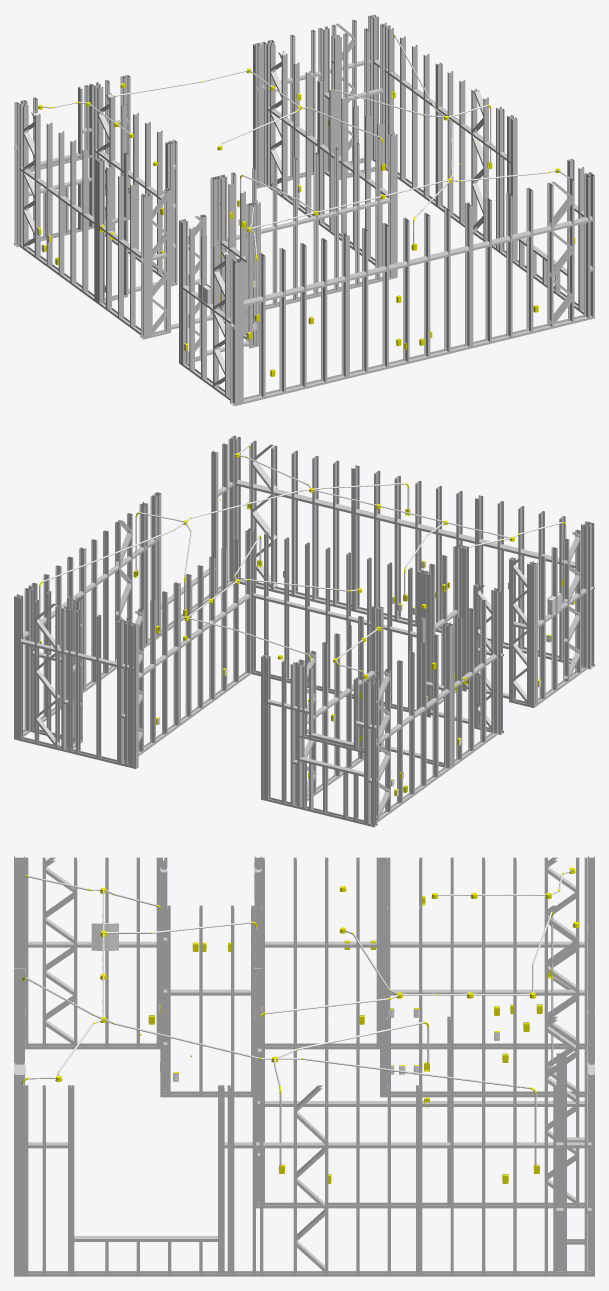
Rendered from suite-sara-cinema.glb.
3 renders of one model, top to bottom at view 1: azimuth 30°, elevation 25°; view 2: azimuth 150°, elevation 25°; view 3: azimuth 270°, elevation 25°, orthographic. The views are drawn at different scales.
Visible parts, largest first — view 1: DirectShape Modelos genéricos <299561 Componente#1726<, DirectShape Modelos genéricos <299503 Componente#1685<, DirectShape Modelos genéricos <299550 Componente#1713<, DirectShape Modelos genéricos <299506 Componente#1701<, DirectShape Modelos genéricos <299509 Componente#1702<, DirectShape Modelos genéricos <299544 Componente#1712<, DirectShape Modelos genéricos <299562 Componente#1723<, DirectShape Modelos genéricos <299566 Componente#1722<, DirectShape Modelos genéricos <299511 Componente#1696<, DirectShape Modelos genéricos <299538 Componente#1708<, DirectShape Modelos genéricos <300843 Componente#2227<, DirectShape Modelos genéricos <300849 Componente#2231< (+84 smaller); view 2: DirectShape Modelos genéricos <301054 Componente#2383<, DirectShape Modelos genéricos <299503 Componente#1685<, DirectShape Modelos genéricos <300953 Componente#2367<, DirectShape Modelos genéricos <300956 Componente#2370<, DirectShape Modelos genéricos <300985 Componente#2366<, DirectShape Modelos genéricos <300849 Componente#2231<, DirectShape Modelos genéricos <301086 Componente#2485<, DirectShape Modelos genéricos <299561 Componente#1726<, DirectShape Modelos genéricos <299566 Componente#1722<, DirectShape Modelos genéricos <300962 Componente#2373<, DirectShape Modelos genéricos <301085 Componente#2476<, DirectShape Modelos genéricos <299548 Componente#1706< (+87 smaller); view 3: DirectShape Modelos genéricos <299557 Componente#1718<, DirectShape Modelos genéricos <300441 Componente#1843<, DirectShape Modelos genéricos <300894 Componente#2310<, DirectShape Modelos genéricos <300393 Componente#1773<, DirectShape Modelos genéricos <300829 Componente#2215<, DirectShape Modelos genéricos <300390 Componente#1792<, DirectShape Modelos genéricos <301120 Componente#2471<, DirectShape Modelos genéricos <300875 Componente#2199<, DirectShape Modelos genéricos <300407 Componente#1769<, DirectShape Modelos genéricos <300841 Componente#2200<, DirectShape Modelos genéricos <300375 Componente#1739<, DirectShape Modelos genéricos <300386 Componente#1788< (+58 smaller).
Part boxes in pixels (x1,y1,x2,y2): DirectShape Modelos genéricos <299561 Componente#1726<: [526, 187, 533, 333]; DirectShape Modelos genéricos <299503 Componente#1685<: [230, 260, 236, 405]; DirectShape Modelos genéricos <299550 Componente#1713<: [444, 207, 450, 353]; DirectShape Modelos genéricos <299506 Componente#1701<: [300, 243, 306, 388]; DirectShape Modelos genéricos <299509 Componente#1702<: [321, 238, 327, 383]; DirectShape Modelos genéricos <299544 Componente#1712<: [424, 213, 430, 358]; DirectShape Modelos genéricos <299562 Componente#1723<: [584, 173, 590, 319]; DirectShape Modelos genéricos <299566 Componente#1722<: [506, 192, 512, 338]; DirectShape Modelos genéricos <299511 Componente#1696<: [341, 233, 347, 378]; DirectShape Modelos genéricos <299538 Componente#1708<: [362, 228, 368, 373]; DirectShape Modelos genéricos <300843 Componente#2227<: [58, 131, 64, 275]; DirectShape Modelos genéricos <300849 Componente#2231<: [70, 140, 76, 284]; DirectShape Modelos genéricos <301054 Componente#2383<: [529, 563, 535, 707]; DirectShape Modelos genéricos <299503 Componente#1685<: [588, 523, 594, 668]; DirectShape Modelos genéricos <300953 Componente#2367<: [492, 590, 498, 734]; DirectShape Modelos genéricos <300956 Componente#2370<: [480, 599, 486, 743]; DirectShape Modelos genéricos <300985 Componente#2366<: [468, 608, 474, 752]; DirectShape Modelos genéricos <300849 Componente#2231<: [420, 643, 426, 786]; DirectShape Modelos genéricos <301086 Componente#2485<: [173, 582, 179, 725]; DirectShape Modelos genéricos <299561 Componente#1726<: [291, 450, 297, 596]; DirectShape Modelos genéricos <299566 Componente#1722<: [312, 455, 318, 601]; DirectShape Modelos genéricos <300962 Componente#2373<: [539, 556, 545, 700]; DirectShape Modelos genéricos <301085 Componente#2476<: [197, 565, 203, 709]; DirectShape Modelos genéricos <299548 Componente#1706<: [353, 465, 359, 611]; DirectShape Modelos genéricos <299557 Componente#1718<: [14, 1086, 24, 1276]; DirectShape Modelos genéricos <300441 Componente#1843<: [556, 1083, 563, 1270]; DirectShape Modelos genéricos <300894 Componente#2310<: [380, 907, 386, 1097]; DirectShape Modelos genéricos <300393 Componente#1773<: [231, 1142, 418, 1148]; DirectShape Modelos genéricos <300829 Componente#2215<: [390, 941, 584, 947]; DirectShape Modelos genéricos <300390 Componente#1792<: [419, 1142, 594, 1148]; DirectShape Modelos genéricos <301120 Componente#2471<: [257, 1202, 447, 1208]; DirectShape Modelos genéricos <300875 Componente#2199<: [391, 1043, 584, 1049]; DirectShape Modelos genéricos <300407 Componente#1769<: [231, 1271, 418, 1276]; DirectShape Modelos genéricos <300841 Componente#2200<: [391, 1091, 584, 1097]; DirectShape Modelos genéricos <300375 Componente#1739<: [28, 1271, 227, 1276]; DirectShape Modelos genéricos <300386 Componente#1788<: [419, 1271, 594, 1276].
Bounding box in the file's own units: 7.01 × 2.65 × 7.41.
